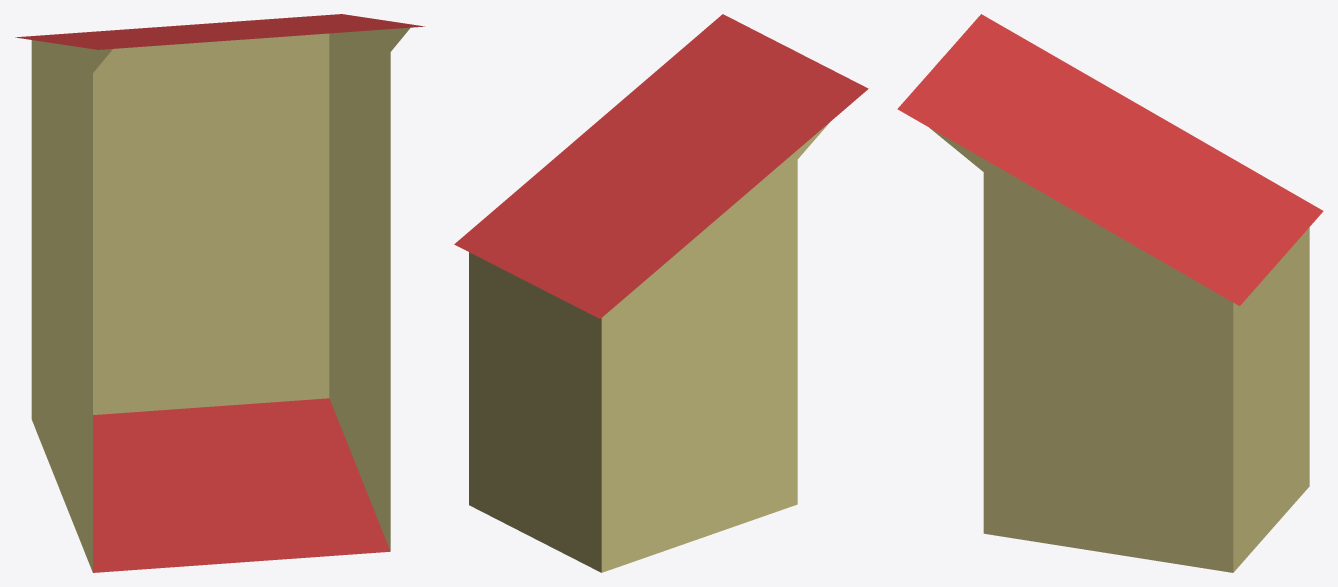
The picture shows the model from 3 angles, left to right: view 1: azimuth 30°, elevation 25°; view 2: azimuth 150°, elevation 25°; view 3: azimuth 270°, elevation 25°; orthographic projection. The views are drawn at different scales.
Bounding box in the file's own units: 8 × 9.66 × 10.4.
